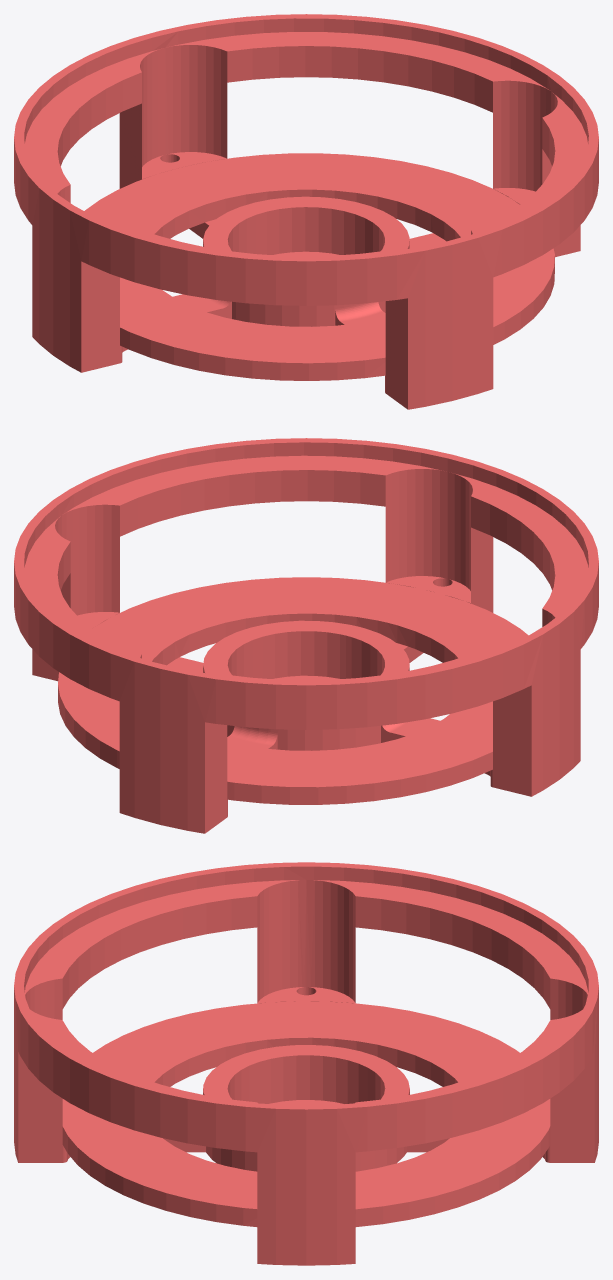
File: Tampa 1.gltf
The picture shows the model from 3 angles, top to bottom: view 1: azimuth 30°, elevation 25°; view 2: azimuth 150°, elevation 25°; view 3: azimuth 270°, elevation 25°; orthographic projection.
Parts seen in each view (by area): view 1: amfobject; view 2: amfobject; view 3: amfobject.
Part boxes in pixels (left/top/right/bottom): amfobject: left=14, top=14, right=598, bottom=409; amfobject: left=14, top=438, right=598, bottom=833; amfobject: left=14, top=862, right=598, bottom=1265.
Bounding box in the file's own units: 119 × 35 × 119.
